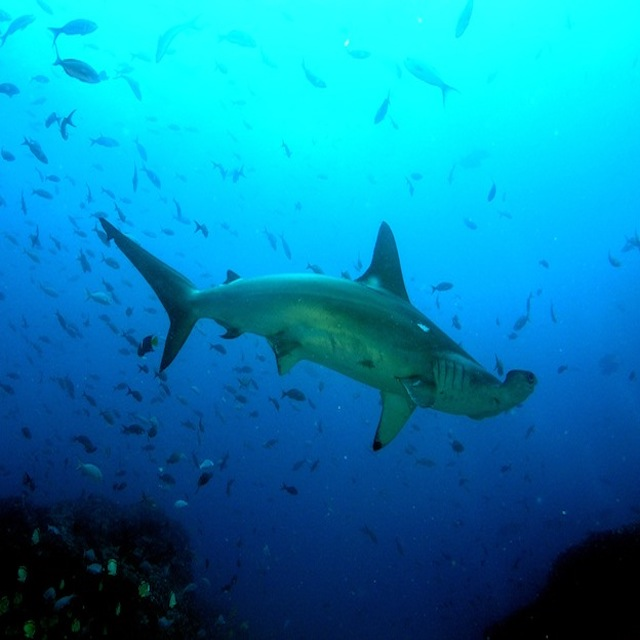hammerhead: (441, 315, 546, 465)
